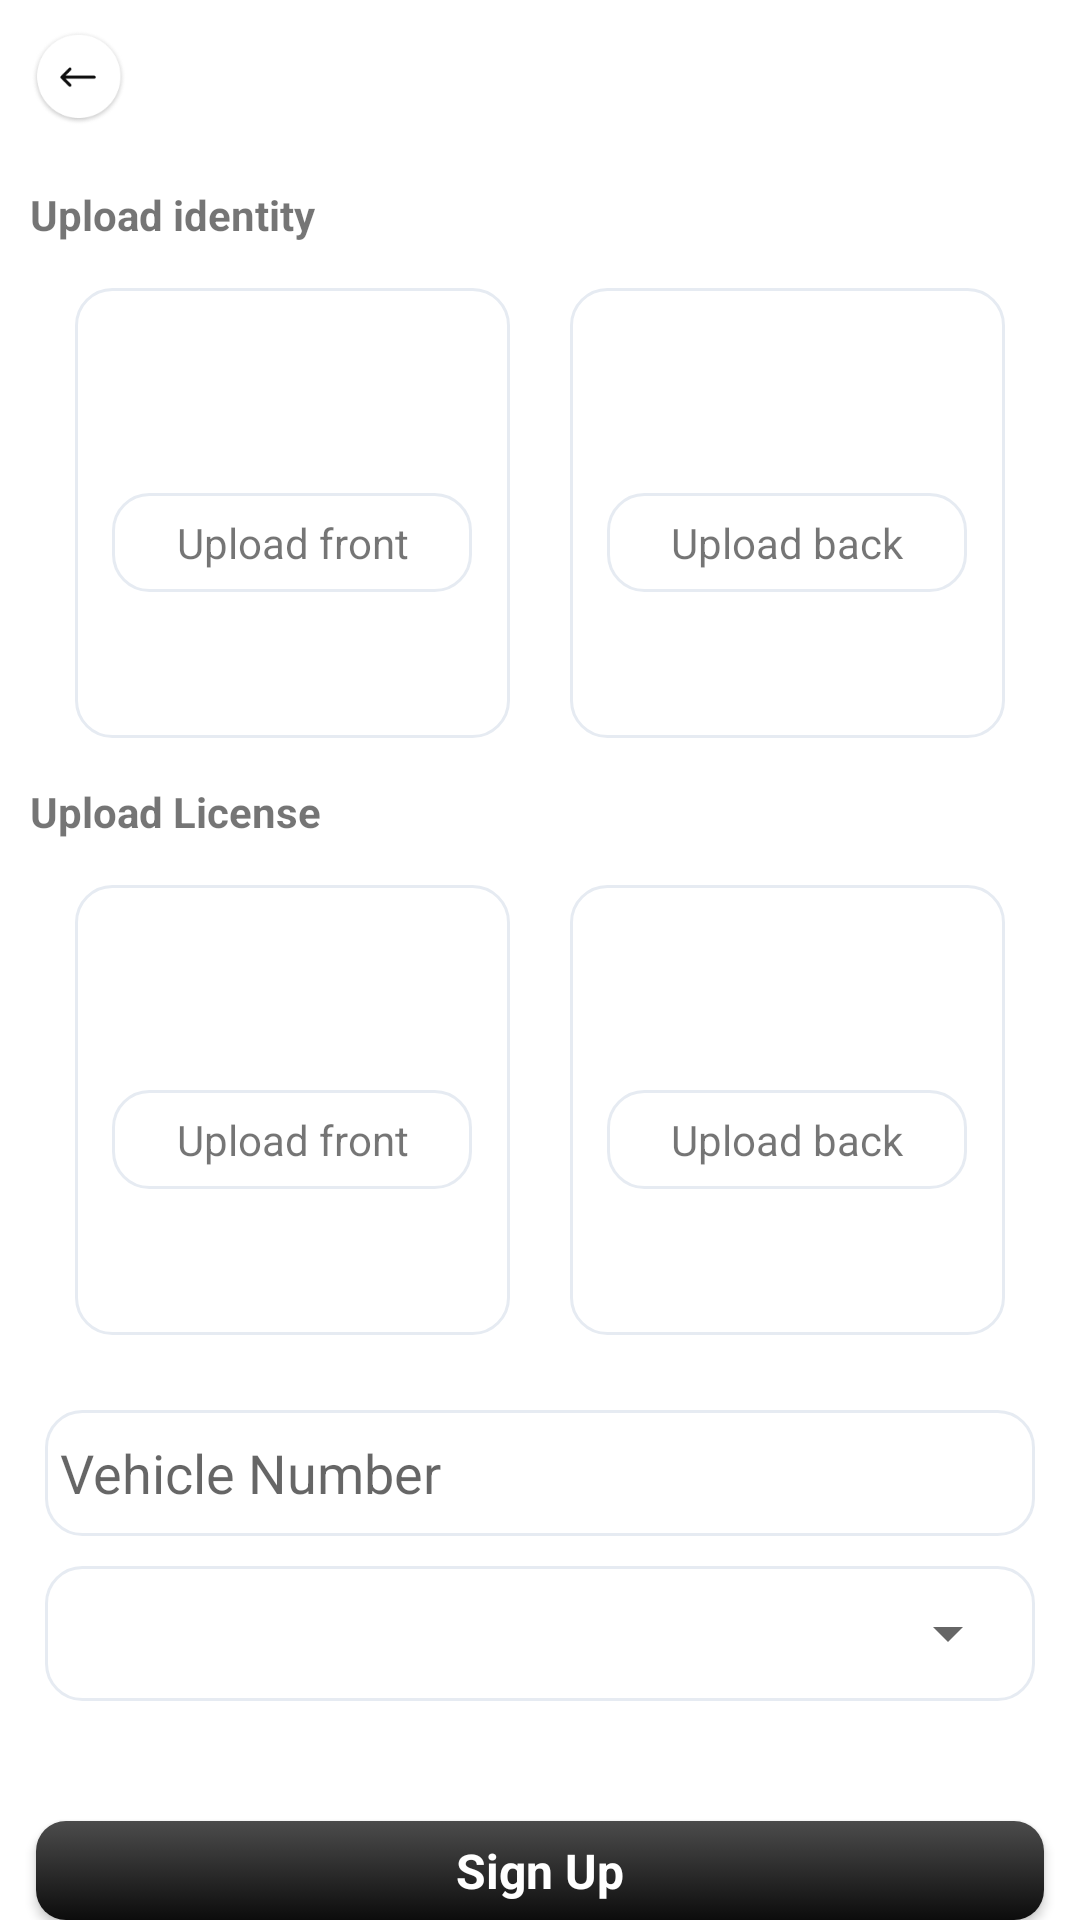

Icons on this 1080*1920 Android screen, each with its box as box=[x1, y1, x2, y2]:
back: box=[36, 67, 121, 120]
